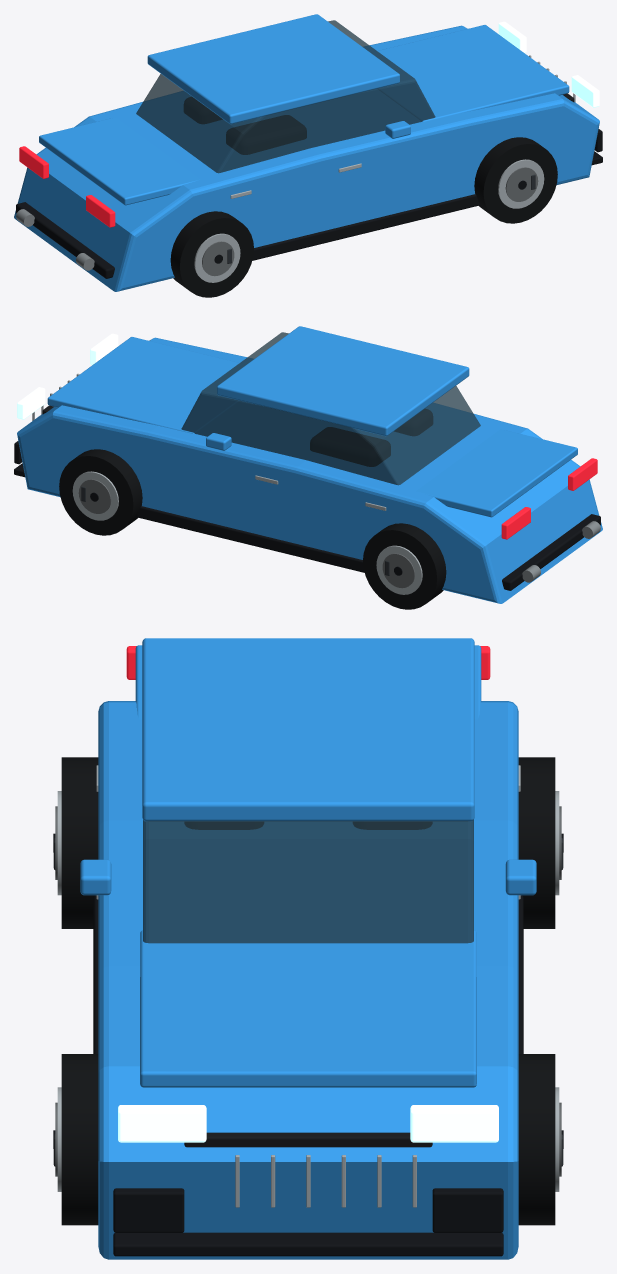
The model's file is ford_thunderbird.glb.
The picture shows the model from 3 angles, top to bottom: view 1: azimuth 30°, elevation 25°; view 2: azimuth 150°, elevation 25°; view 3: azimuth 270°, elevation 25°; orthographic projection. The views are drawn at different scales.
Parts seen in each view (by area): view 1: sculpted_body, roof, glasshouse, hood_center, rear_deck, rear_right_wheel_tire, front_right_wheel_tire, side_skirt_1, seat_1, rear_diffuser, front_right_wheel_rim, rear_right_wheel_rim (+7 smaller); view 2: sculpted_body, roof, glasshouse, hood_center, rear_deck, rear_left_wheel_tire, front_left_wheel_tire, side_skirt_-1, seat_-1, rear_diffuser, front_left_wheel_rim, rear_left_wheel_rim (+7 smaller); view 3: sculpted_body, roof, hood_center, glasshouse, front_splitter, front_left_wheel_tire, front_right_wheel_tire, rear_left_wheel_tire, rear_right_wheel_tire, front_grille, headlight_left, headlight_right (+7 smaller).
Part boxes in pixels (box(x1,y1,x2,y2)): sculpted_body: box(14, 25, 599, 291); roof: box(147, 14, 399, 124); glasshouse: box(136, 20, 435, 173); hood_center: box(372, 25, 569, 121); rear_deck: box(39, 117, 200, 205); rear_right_wheel_tire: box(170, 211, 253, 297); front_right_wheel_tire: box(474, 137, 557, 223); side_skirt_1: box(252, 194, 480, 260); seat_1: box(226, 115, 306, 154); rear_diffuser: box(16, 202, 114, 278); front_right_wheel_rim: box(498, 159, 544, 208); rear_right_wheel_rim: box(194, 233, 240, 282); sculpted_body: box(17, 337, 602, 603); roof: box(217, 326, 469, 436); glasshouse: box(181, 332, 480, 485); hood_center: box(47, 337, 244, 433); rear_deck: box(416, 429, 577, 517); rear_left_wheel_tire: box(363, 523, 446, 609); front_left_wheel_tire: box(59, 449, 142, 535); side_skirt_-1: box(136, 506, 364, 572); seat_-1: box(310, 427, 390, 466); rear_diffuser: box(502, 514, 600, 590); front_left_wheel_rim: box(72, 471, 118, 520); rear_left_wheel_rim: box(376, 545, 422, 594); sculpted_body: box(98, 701, 518, 1259); roof: box(142, 638, 474, 821); hood_center: box(140, 930, 476, 1087); glasshouse: box(143, 820, 473, 943); front_splitter: box(113, 1232, 503, 1256); front_left_wheel_tire: box(518, 1054, 555, 1225); front_right_wheel_tire: box(61, 1054, 98, 1225); rear_left_wheel_tire: box(518, 757, 555, 928); rear_right_wheel_tire: box(61, 757, 98, 928); front_grille: box(184, 1132, 432, 1147); headlight_left: box(410, 1105, 498, 1142); headlight_right: box(118, 1105, 206, 1142).
Bounding box in the file's own units: 4.92 × 1.47 × 2.14.
